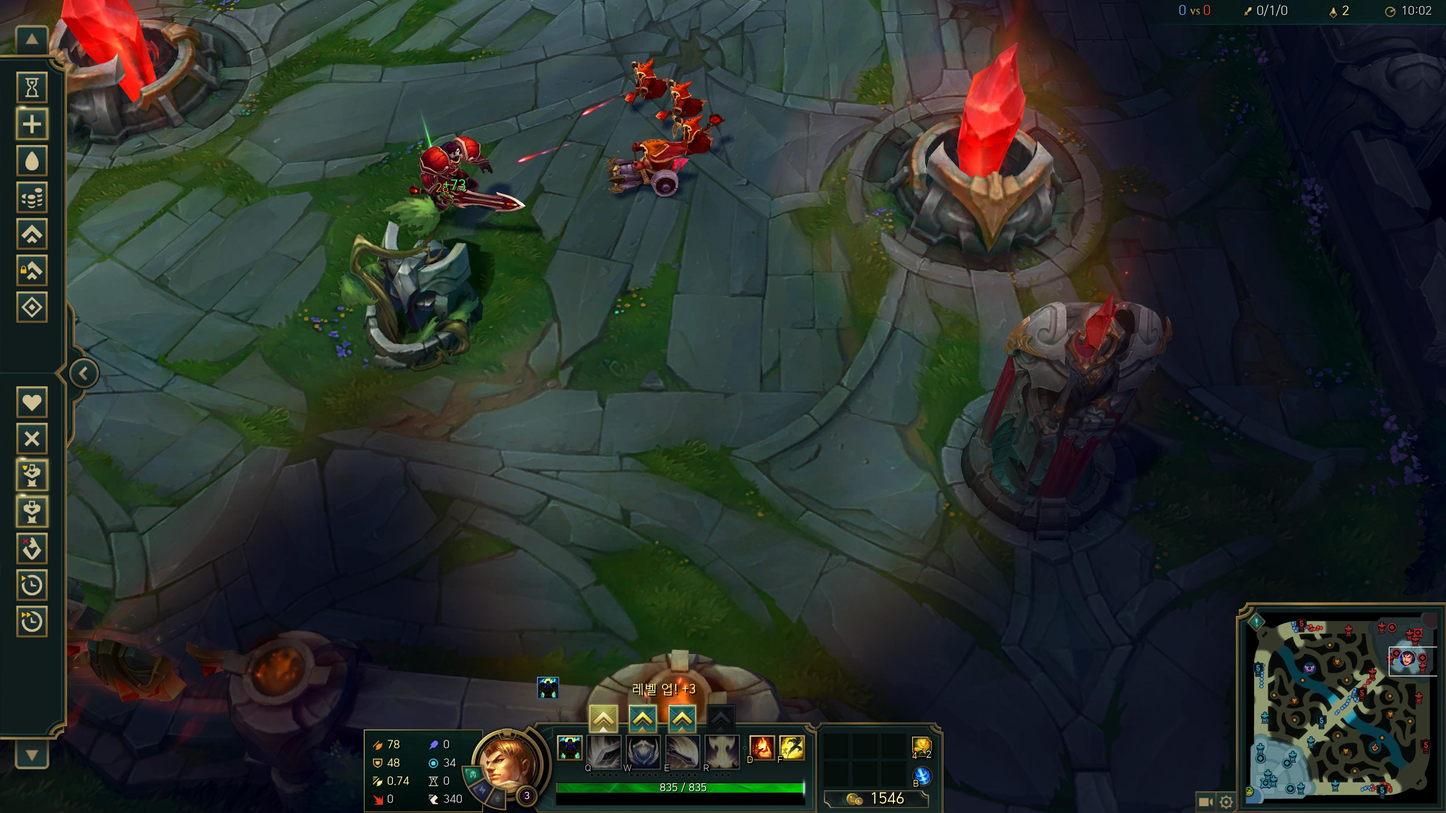enemy-inhibitor: (844, 41, 1108, 288), (66, 1, 268, 169)
enemy-tower: (943, 297, 1174, 545)
